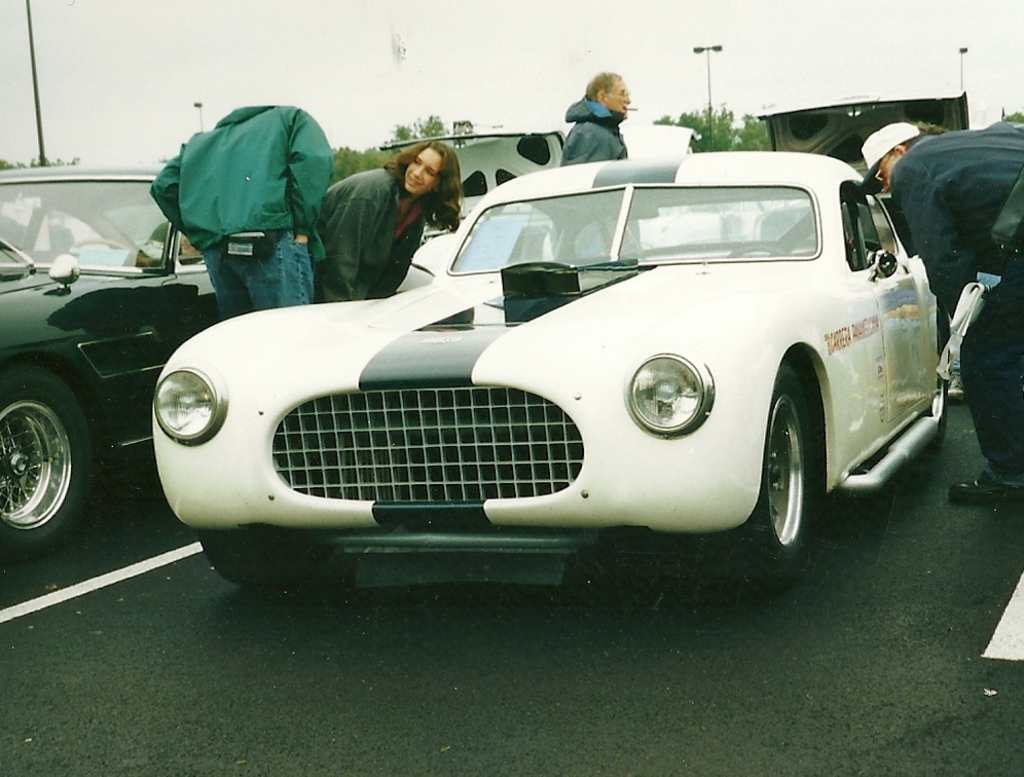Car: (152, 149, 949, 606), (0, 166, 210, 557)
